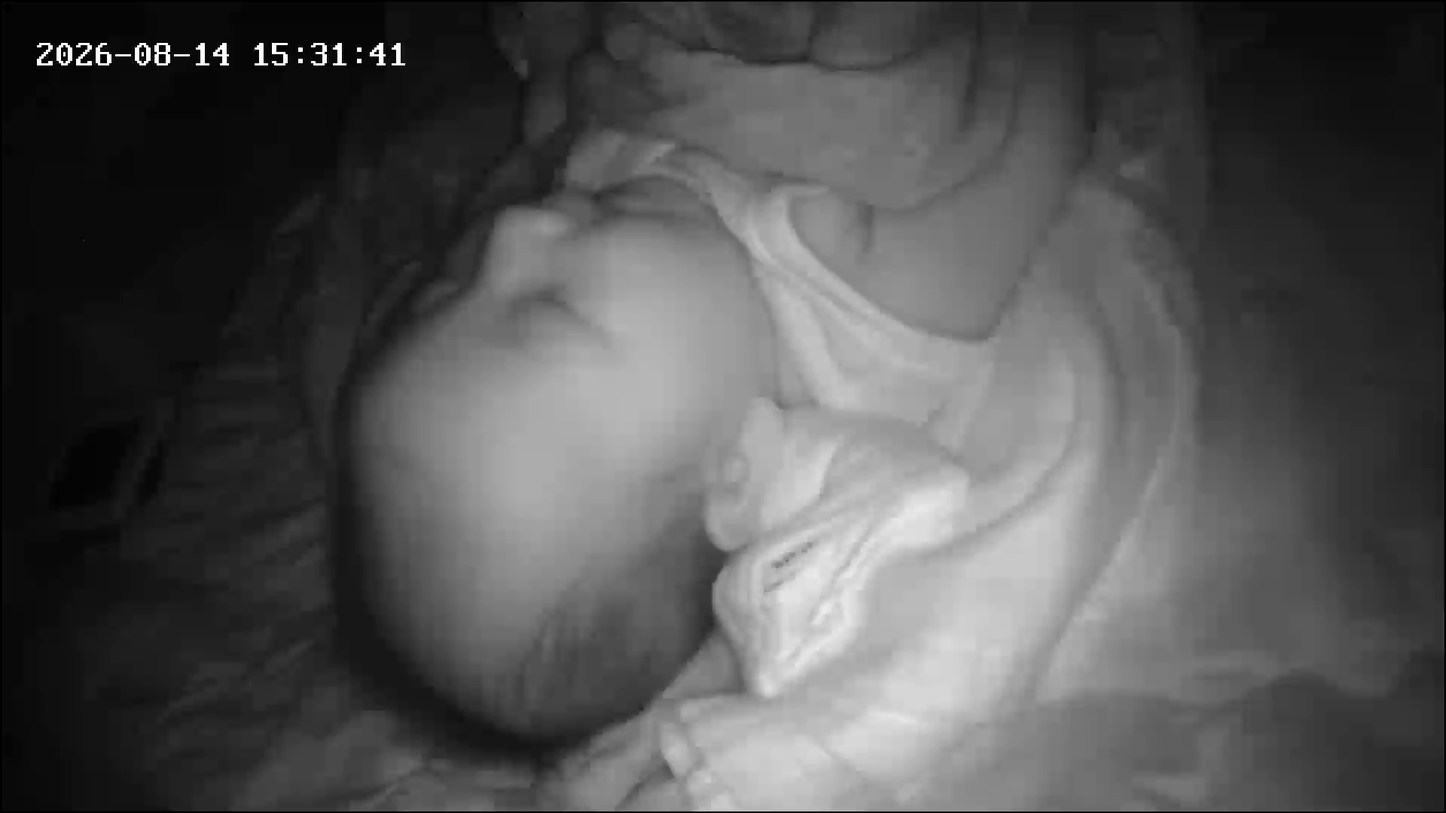baby: (260, 3, 1240, 800)
baby_face: (315, 171, 776, 773)
